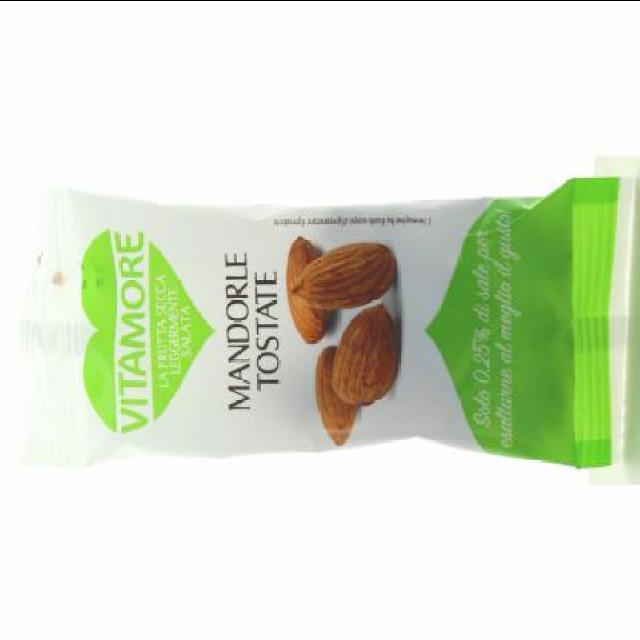Frutta secca: (288, 238, 396, 310), (331, 302, 400, 409)
